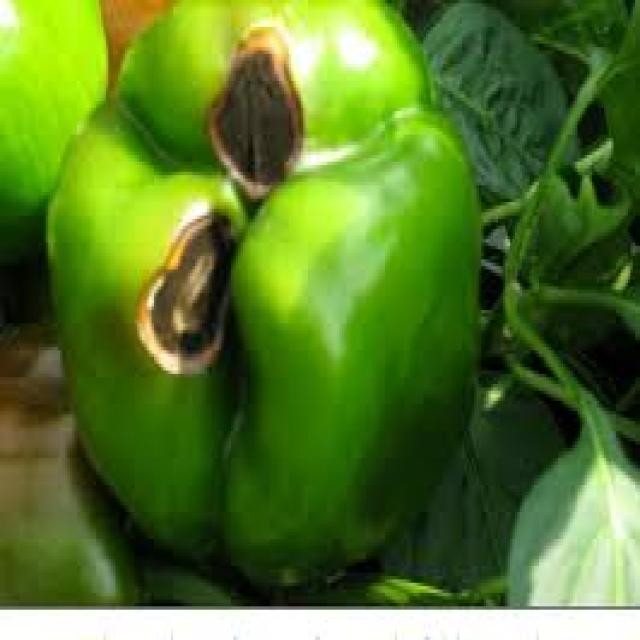Wet Waste: (35, 2, 491, 588)
